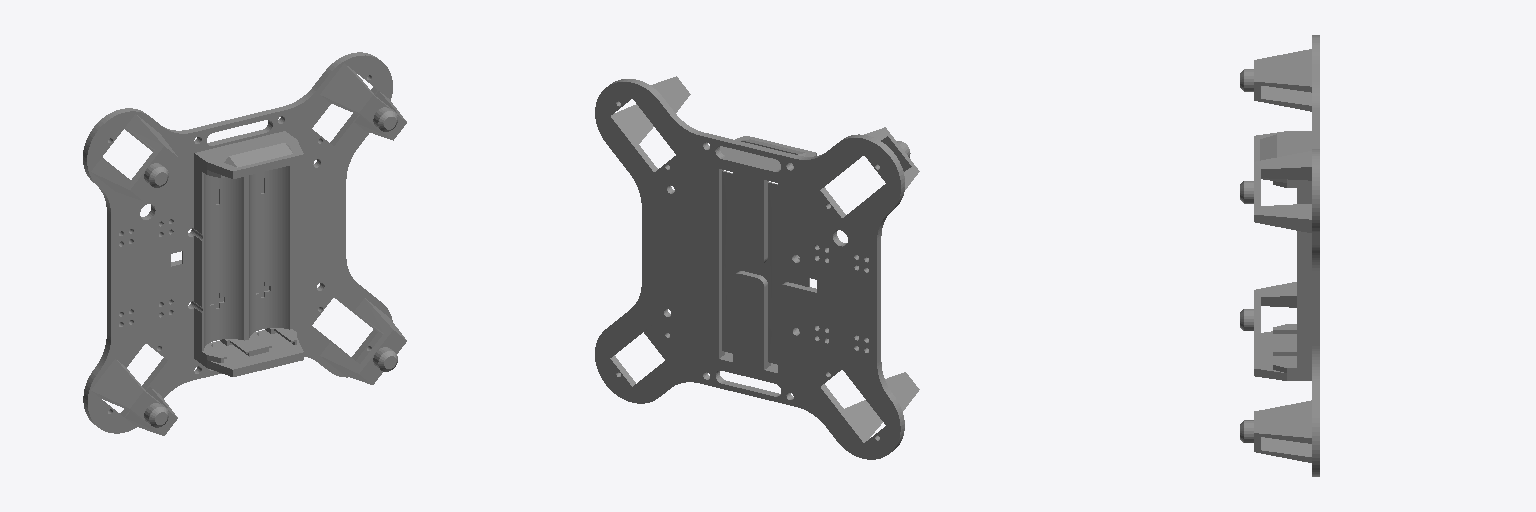
The picture shows the model from 3 angles: view 1: azimuth 30°, elevation 25°; view 2: azimuth 150°, elevation 25°; view 3: azimuth 270°, elevation 25°; orthographic projection.
Visible parts, largest first — view 1: Base_8_16_MG90; view 2: Base_8_16_MG90; view 3: Base_8_16_MG90.
Boxes of the visible parts, x1=… form: Base_8_16_MG90: x1=83, y1=52, x2=406, y2=435; Base_8_16_MG90: x1=595, y1=76, x2=919, y2=459; Base_8_16_MG90: x1=1240, y1=35, x2=1319, y2=476.
Bounding box in the file's own units: 123 × 123 × 28.